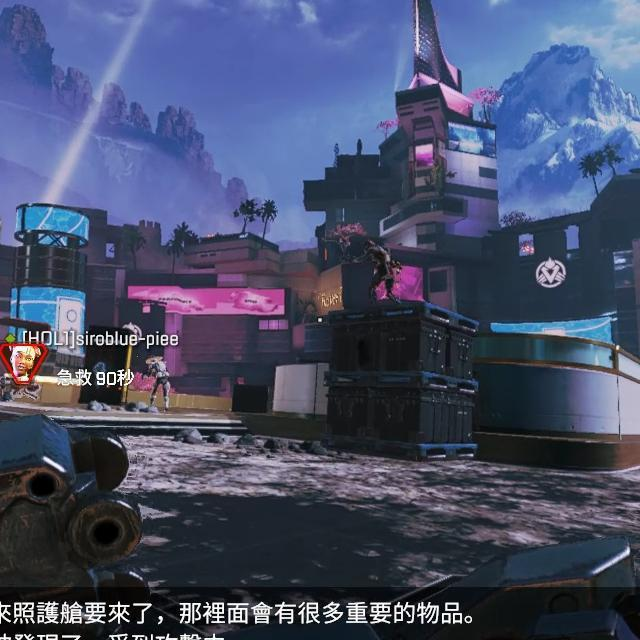avatar: (360, 238, 399, 304), (143, 353, 173, 411)
